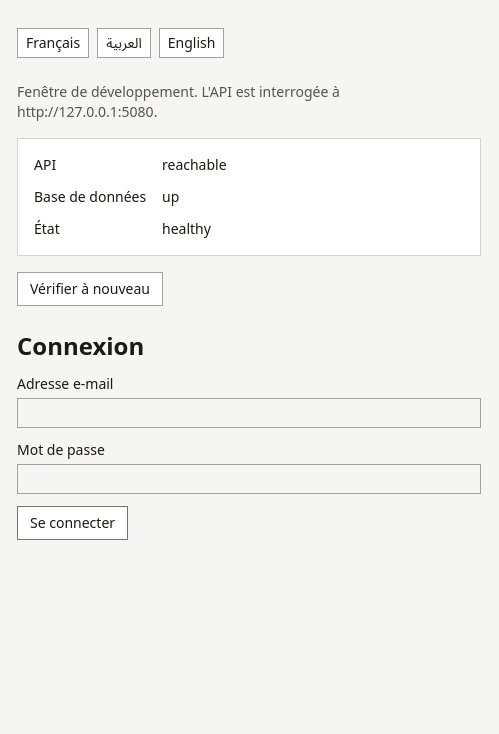
Test case: App › shows on-hand quantity and does not post an adjustment without a reason
This screenshot has width=499, height=734.
Expected: the heading "Connexion" is shown, 17,329 -> 144,362
In the field labelled "Adresse e-mail": [249, 413] box 17,398 -> 481,428, type "owner@example.com"
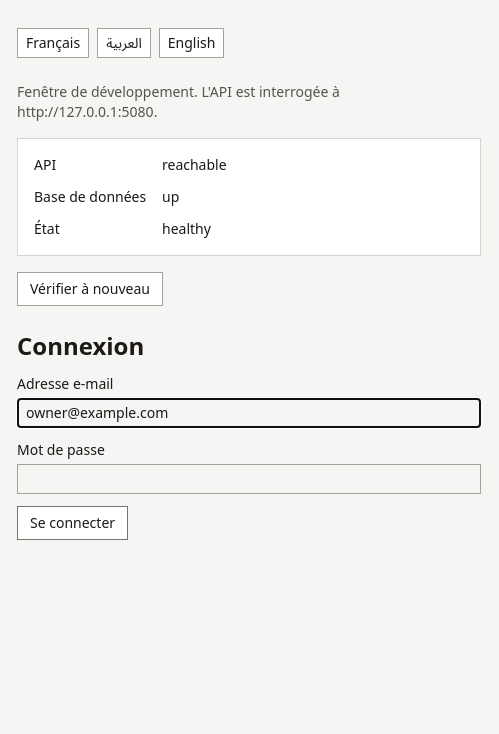
In the password field labelled "Mot de passe": [249, 479] box 17,464 -> 481,494, type "correct-horse-battery"
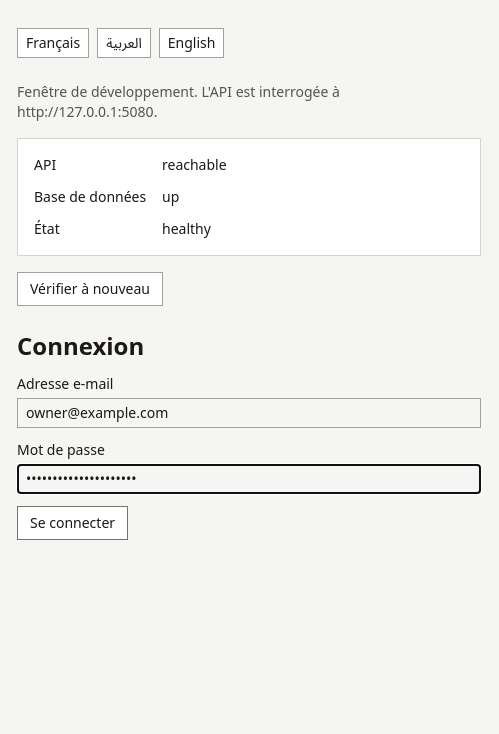
Click the button "Se connecter": [73, 523] box 17,506 -> 128,540
(page scrolled)
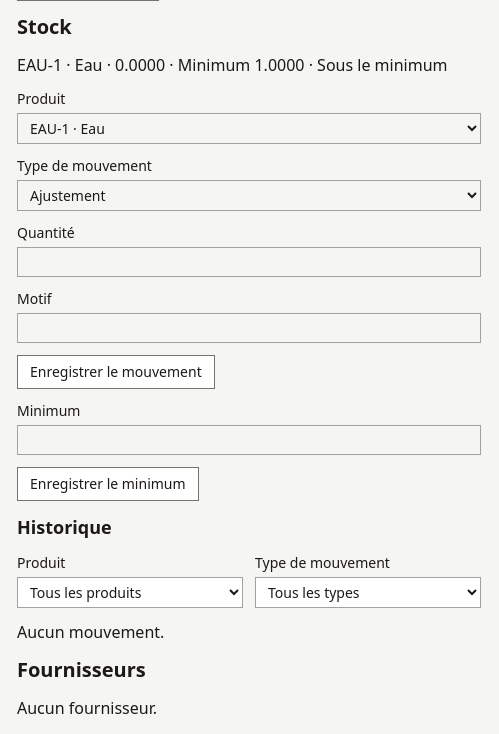
Click the button "Enregistrer le mouvement": [116, 372] box 17,355 -> 215,389
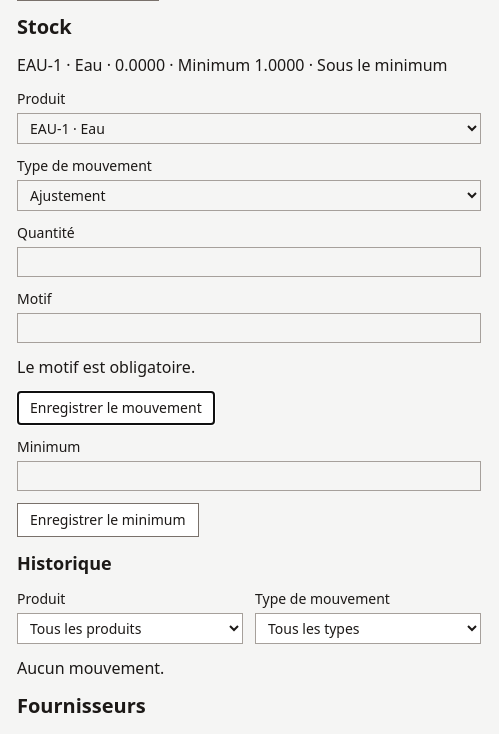
Expected: the message reads "Le motif est obligatoire.", 17,356 -> 195,378
